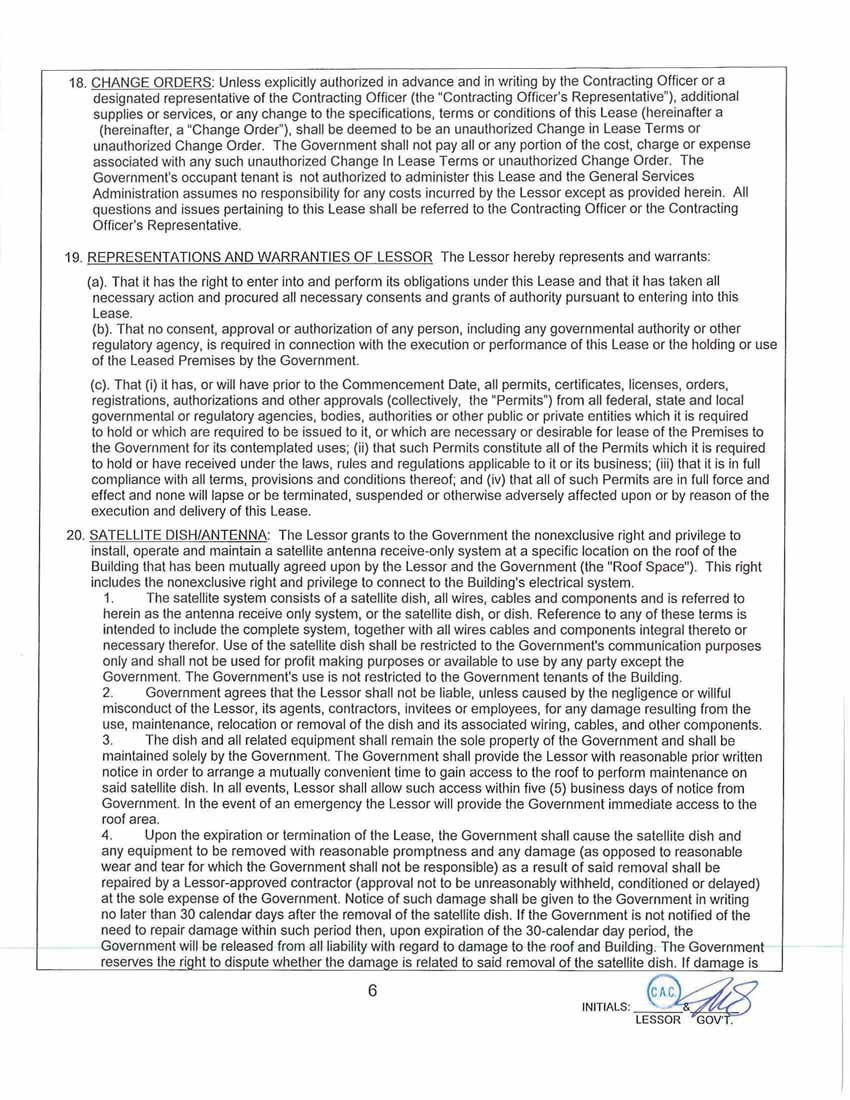handwritten: (681, 968, 761, 1017)
